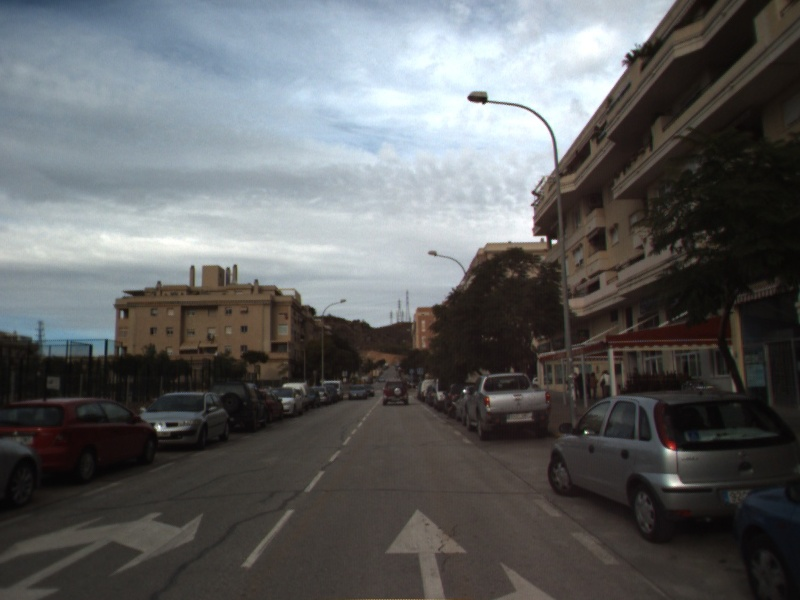STRAIGHT_RIGHT: (382, 505, 557, 600)
